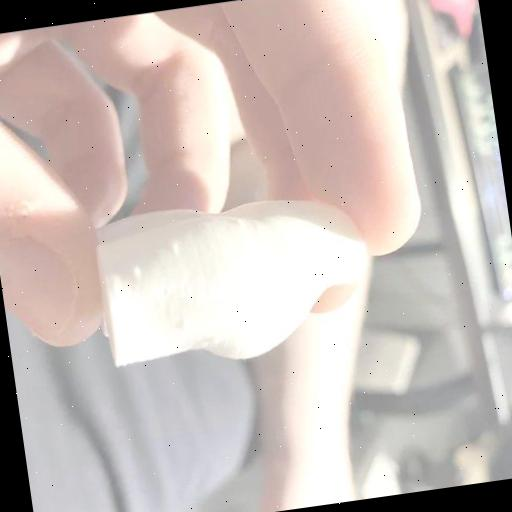blobs: (165, 237, 188, 257), (128, 262, 148, 285), (176, 312, 194, 334), (209, 330, 225, 348), (229, 282, 246, 298), (235, 215, 249, 233)
